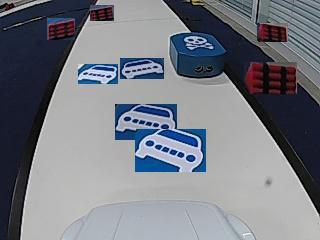danger: (183, 35, 213, 50)
